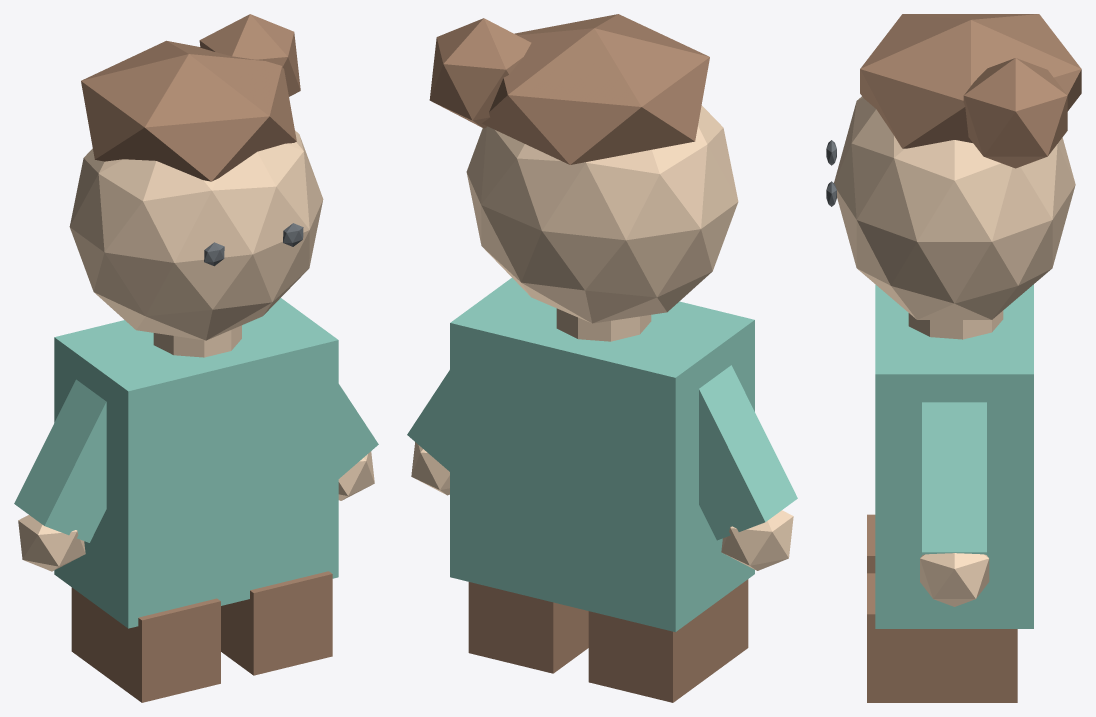
The model's file is guest_04.glb.
3 views of the same model, side by side, from view 1: azimuth 30°, elevation 25°; view 2: azimuth 150°, elevation 25°; view 3: azimuth 270°, elevation 25° (orthographic). The views are drawn at different scales.
Visible parts, largest first — view 1: short overalls.003, head.003, gardener hair, boot.006, arm.006, boot.007, hair bun, hand.006, arm.007, round neck.003, hand.007; view 2: short overalls.003, head.003, gardener hair, boot.006, arm.006, boot.007, hair bun, hand.006, arm.007, round neck.003, hand.007; view 3: short overalls.003, head.003, gardener hair, boot.007, arm.007, hair bun, hand.007, round neck.003, boot.006.
Boxes of the visible parts, <box> form: short overalls.003: <box>54,298,338,628</box>; head.003: <box>69,130,323,340</box>; gardener hair: <box>81,40,296,181</box>; boot.006: <box>71,587,220,702</box>; arm.006: <box>14,379,106,542</box>; boot.007: <box>221,571,332,675</box>; hair bun: <box>199,14,300,96</box>; hand.006: <box>18,515,85,571</box>; arm.007: <box>338,384,378,478</box>; round neck.003: <box>153,325,241,357</box>; hand.007: <box>338,451,374,500</box>; short overalls.003: <box>450,278,754,632</box>; head.003: <box>466,105,738,323</box>; gardener hair: <box>482,14,709,164</box>; boot.006: <box>588,579,748,702</box>; arm.006: <box>699,365,797,540</box>; boot.007: <box>468,582,588,673</box>; hair bun: <box>429,18,531,128</box>; hand.006: <box>721,510,793,570</box>; arm.007: <box>407,370,449,471</box>; round neck.003: <box>556,308,651,341</box>; hand.007: <box>411,442,449,495</box>; short overalls.003: <box>875,284,1033,628</box>; head.003: <box>834,96,1075,319</box>; gardener hair: <box>860,14,1081,148</box>; boot.007: <box>867,573,1017,702</box>; arm.007: <box>922,402,986,555</box>; hair bun: <box>963,58,1067,168</box>; hand.007: <box>920,553,989,606</box>; round neck.003: <box>908,310,1003,339</box>; boot.006: <box>867,514,875,573</box>.
Size of the model in its own units: 1.06 by 1.73 by 0.6273.
